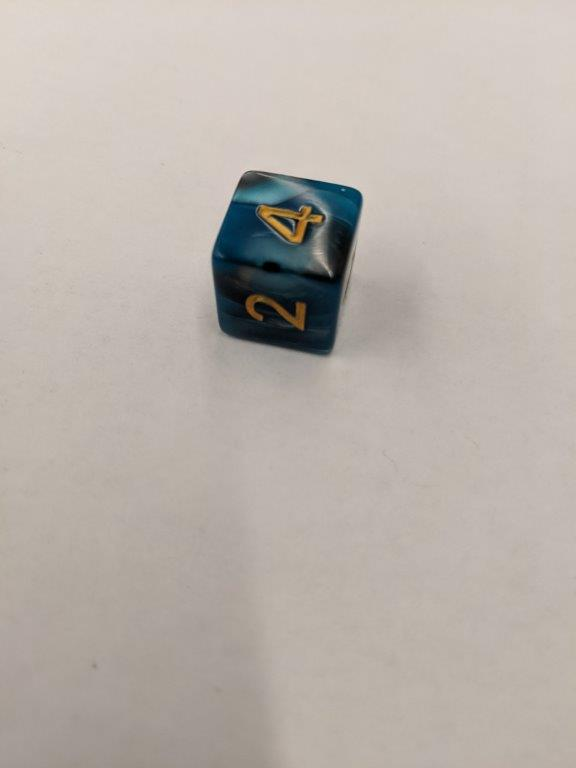d6-4: (211, 169, 365, 354)
